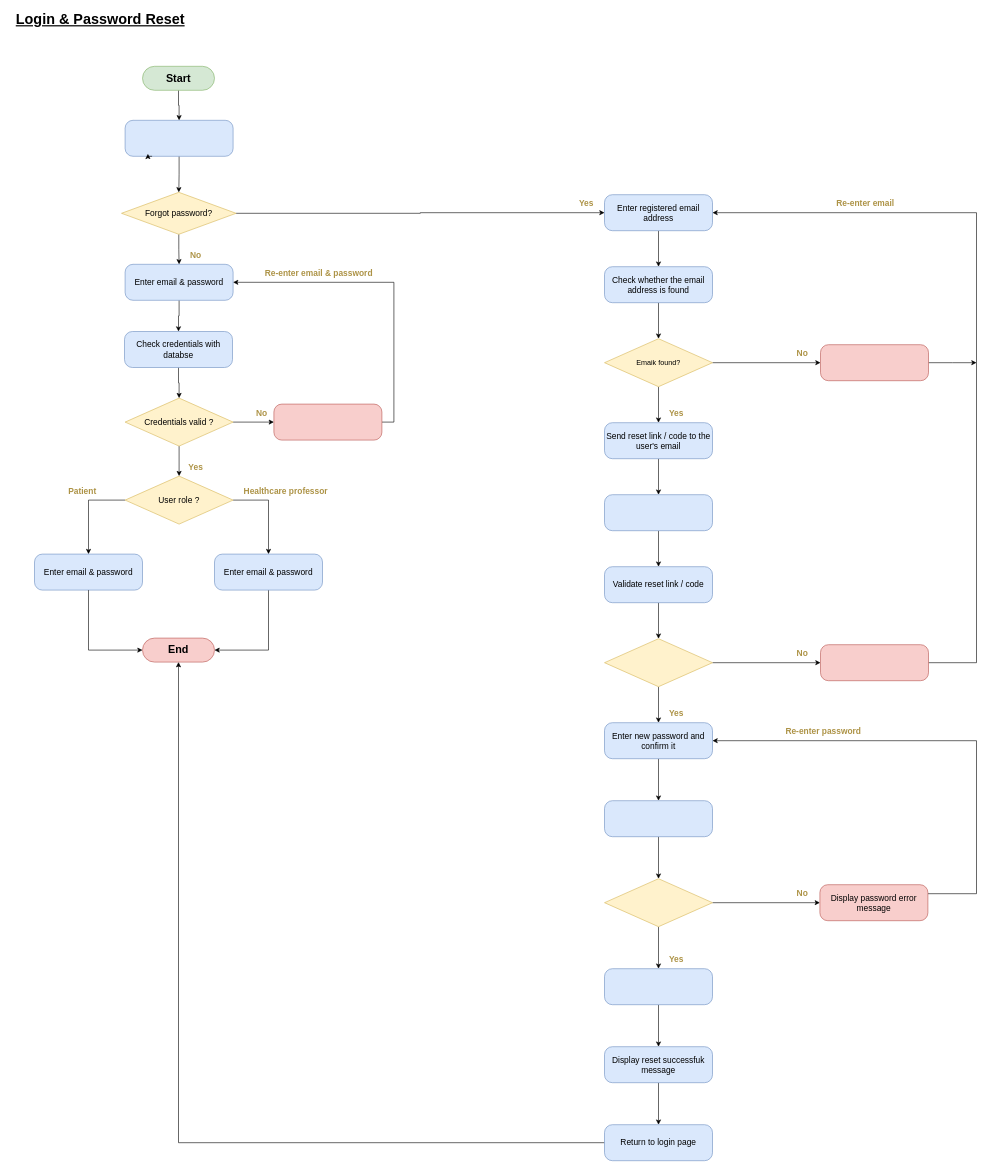
Image size: 992x1171. Some labels were removed from this diagram. The shapes that lost their labels are listed below. From the top down, each one's centre as x and y in pixels, then its label:
At (178,138): "Open login page".
At (874,362): "Display email not found error message".
At (327,422): "Display error message".
At (658,512): "Open reser link / enter code".
At (658,662): "Link valid and not expired".
At (874,662): "Display invalid or expired link error message".
At (658,818): "Validate new password (rules & match)".
At (658,902): "Password valid >".
At (658,986): "Update password in database".
